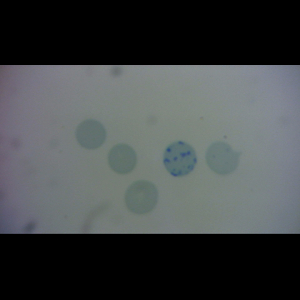aggregate reticulocyte: (162, 140, 199, 178)
erythrocyte: (123, 178, 160, 216), (73, 118, 107, 150), (106, 142, 139, 174)
punctate reticulocyte: (203, 140, 243, 176)
